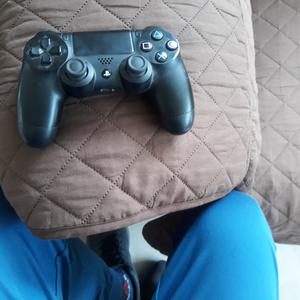controller: (17, 26, 193, 148)
